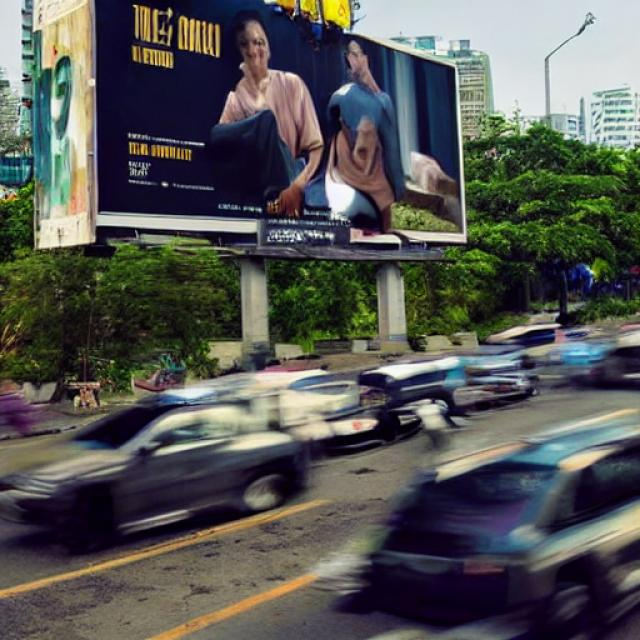Billboard: (92, 2, 467, 254)
